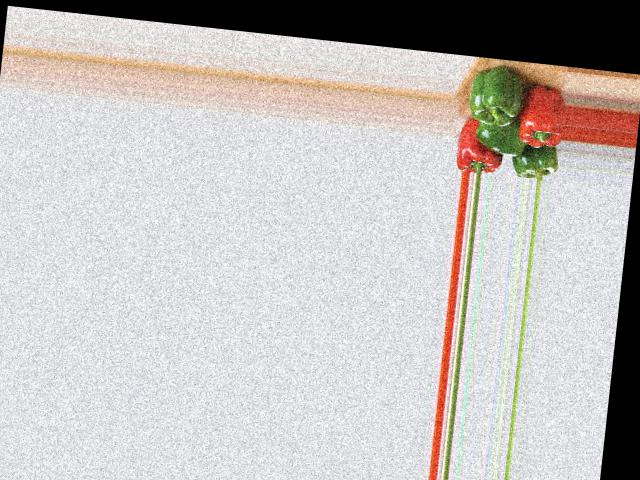bell_pepper: (514, 77, 567, 148)
